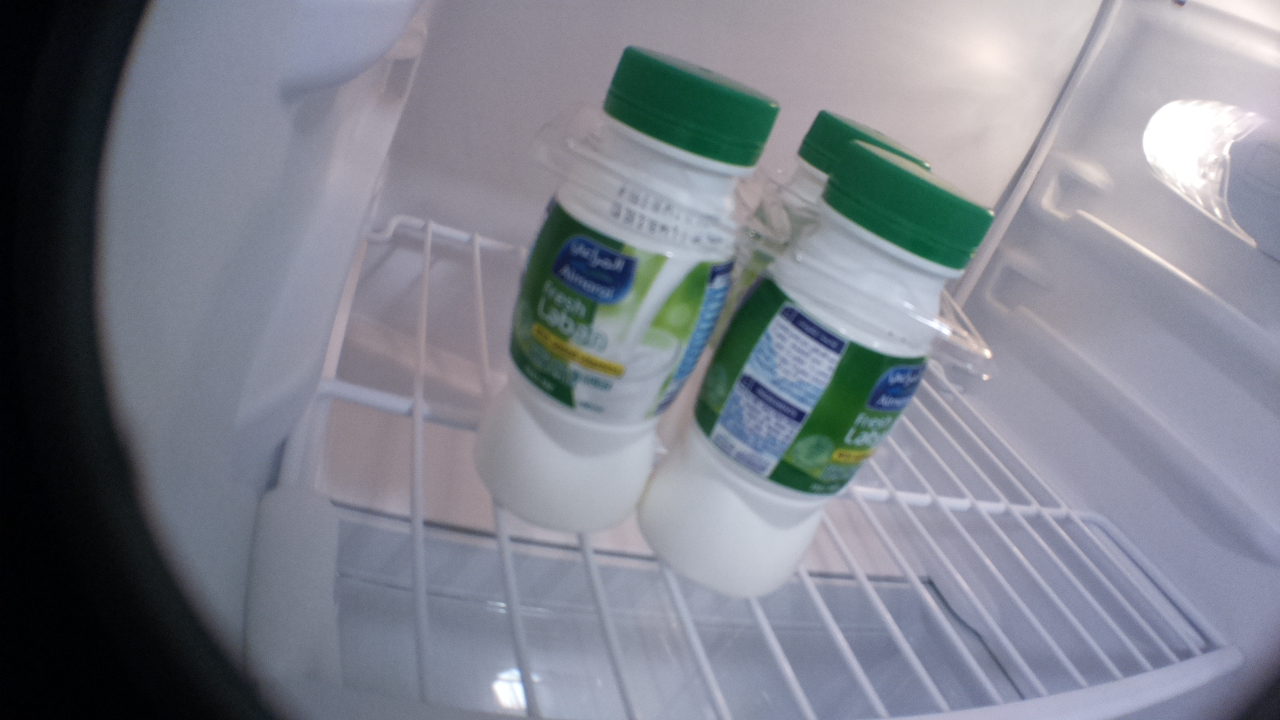laban: (638, 141, 994, 597), (472, 44, 780, 532), (791, 108, 933, 224)
